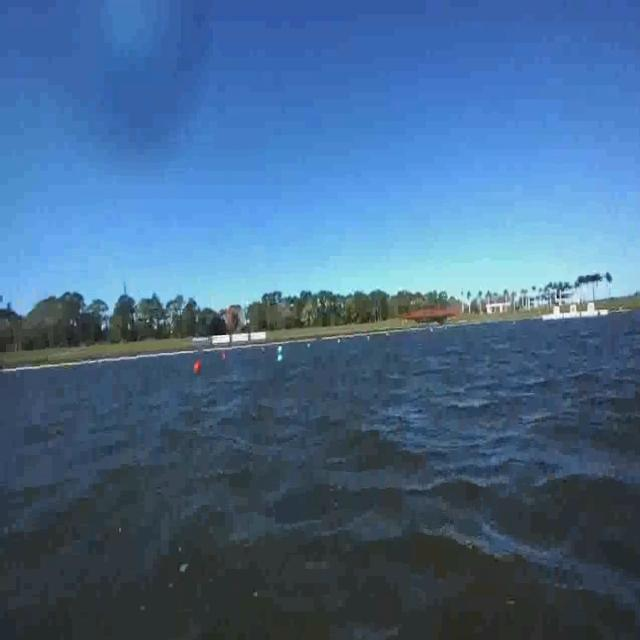green-buoy: (278, 352, 288, 367)
red-buoy: (193, 361, 202, 376)
